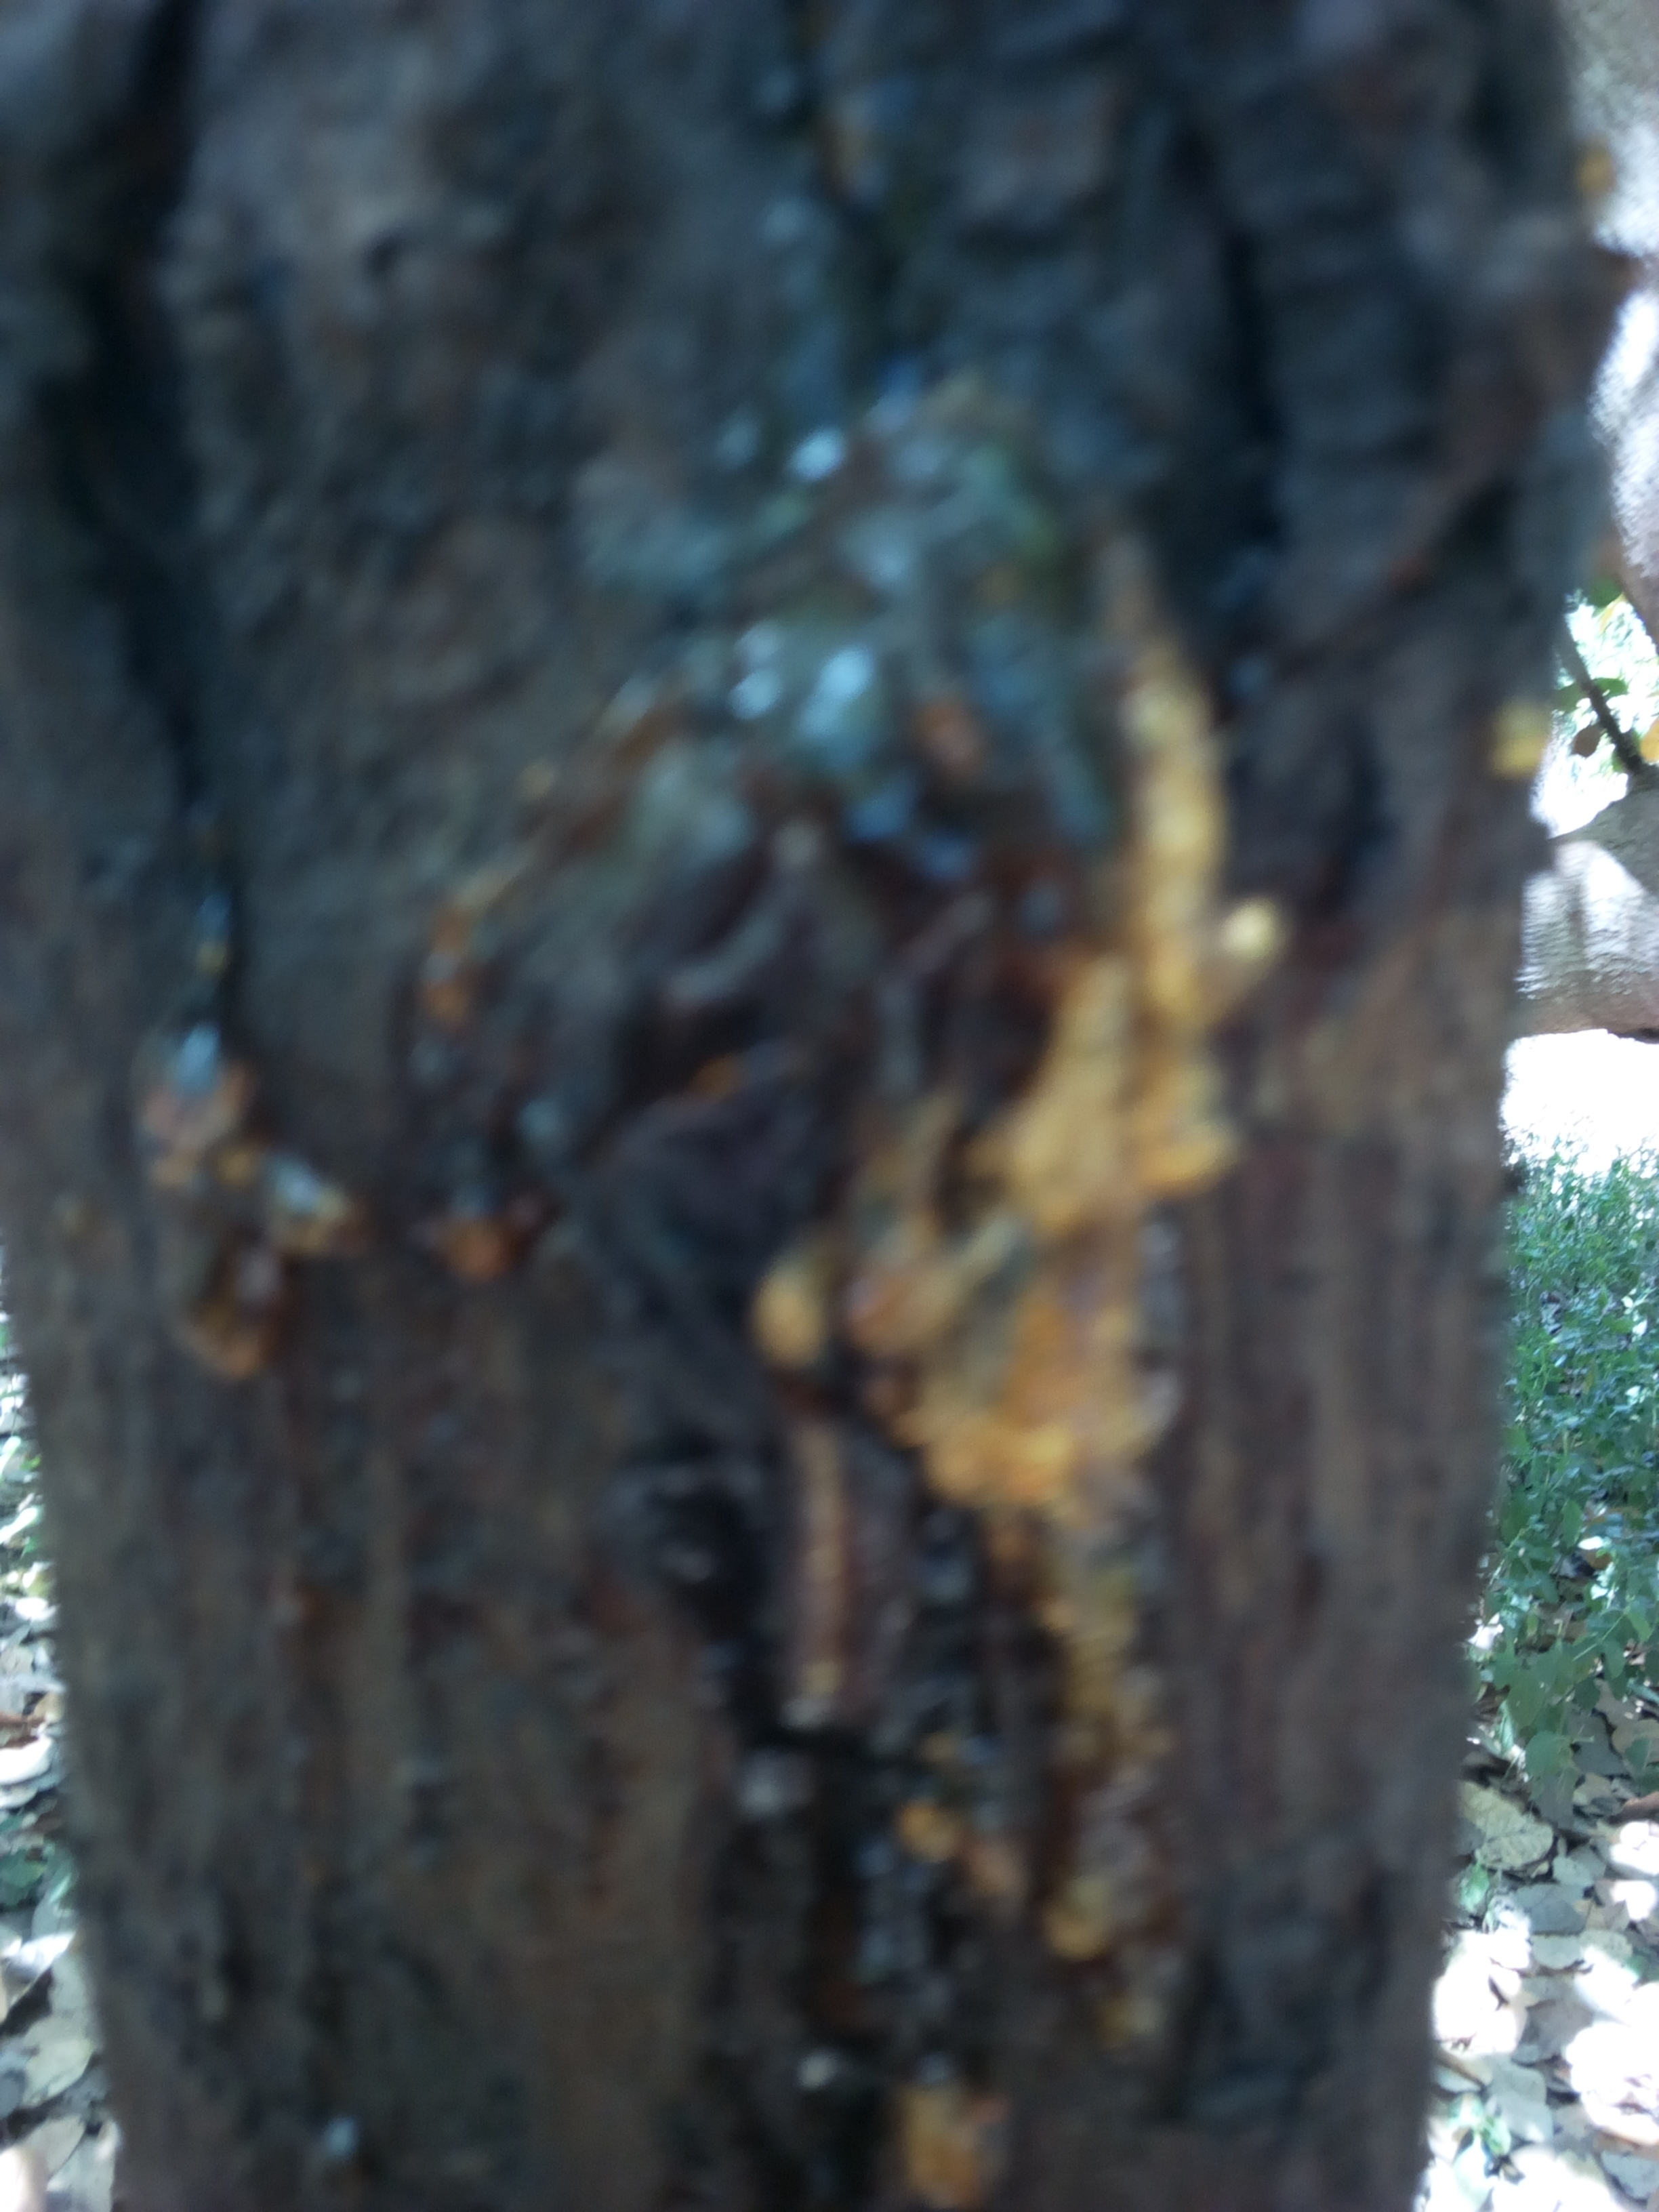Gommose: (227, 49, 1453, 2212)
